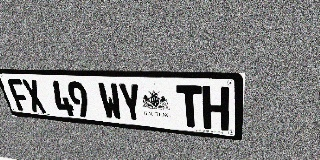4: (48, 80, 75, 116)
9: (66, 81, 93, 118)
F: (6, 79, 33, 112)
H: (202, 86, 230, 131)
T: (176, 85, 203, 128)
W: (97, 82, 124, 121)
X: (21, 79, 47, 113)
Y: (117, 83, 144, 123)
